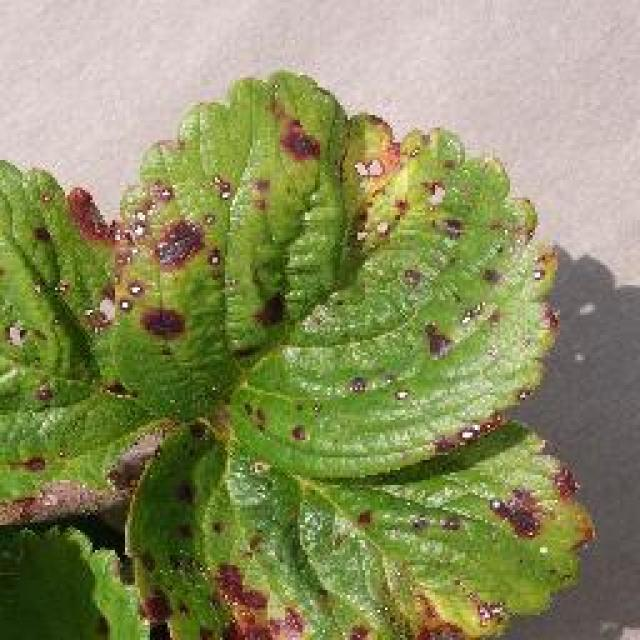Strawberry___Leaf_scorch: (50, 129, 497, 629)
